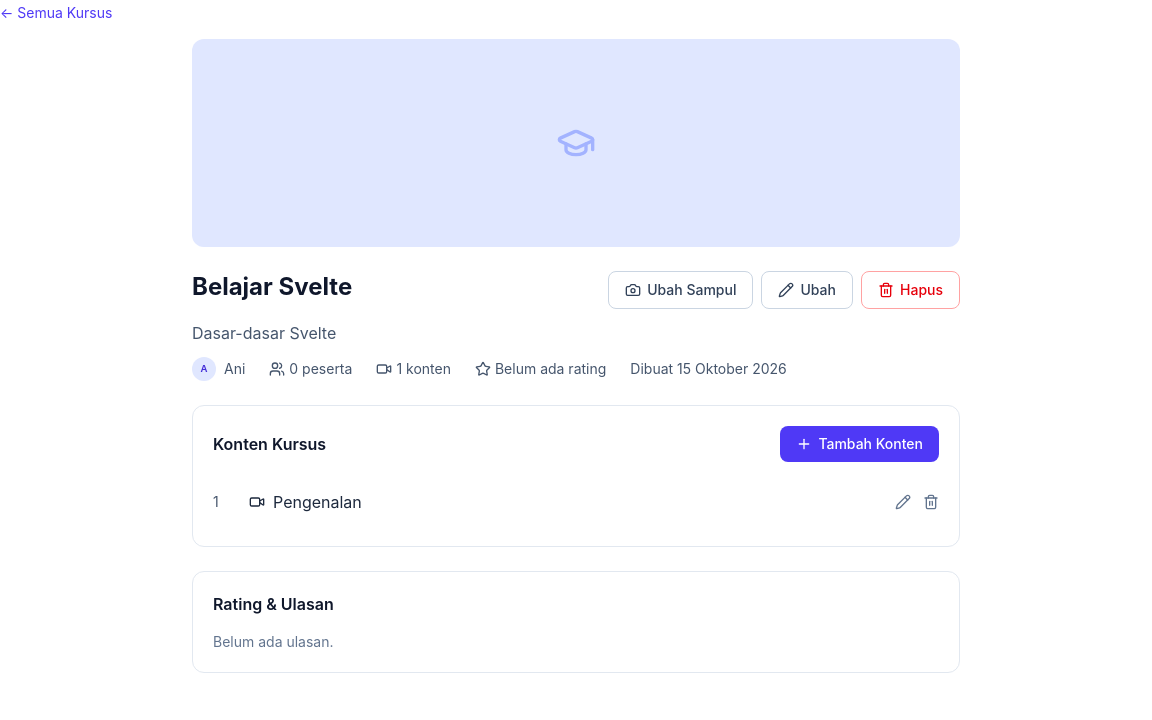
Test: tampilan pemilik › membuka dan menutup modal ubah konten
Expected: the heading "Belajar Svelte" is shown, [192,271,352,303]
Click the button named "Ubah konten": (903, 502) [895,494,911,510]
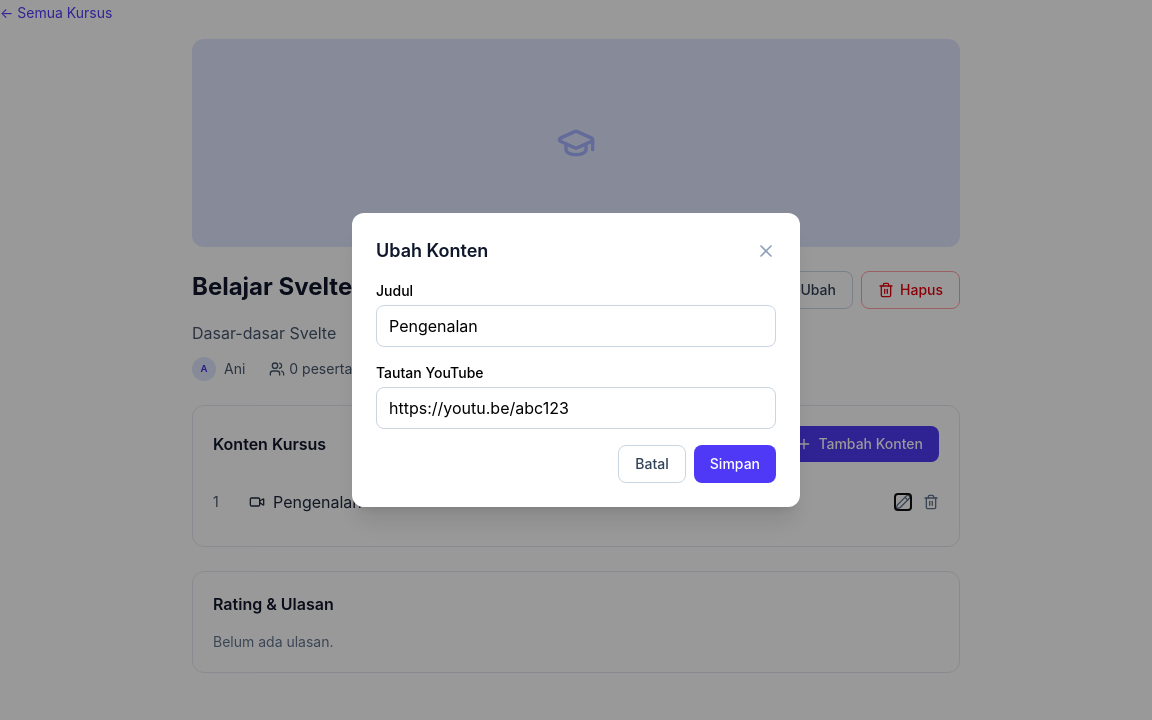
Now the heading "Ubah Konten" is shown, box [376,237,488,265]
Now the field labelled "Judul" holds "Pengenalan", box [376,305,776,347]
Click the button "Batal": (652, 464) [618,445,686,483]
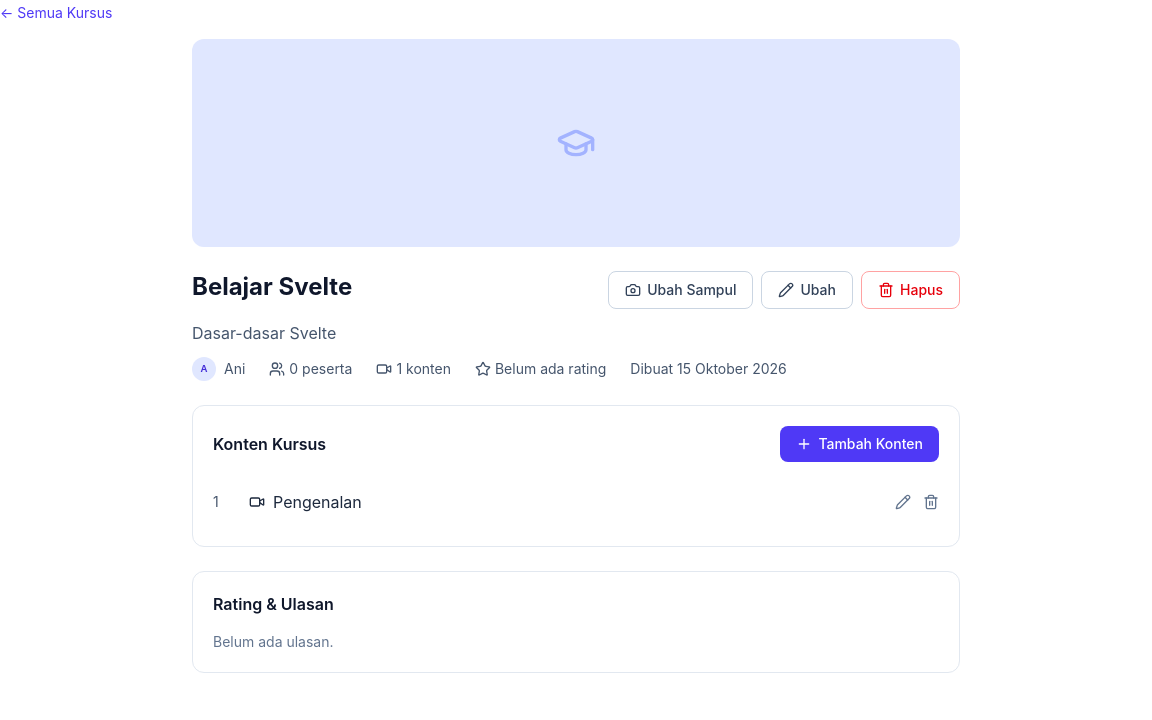
Now the heading "Ubah Konten" is gone
